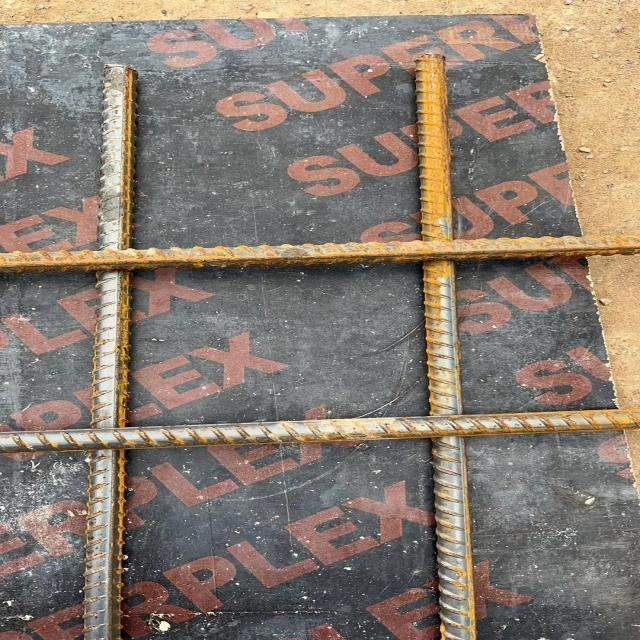ribbed bar: (409, 55, 479, 640), (80, 63, 137, 639), (0, 232, 639, 279), (0, 407, 639, 454)
